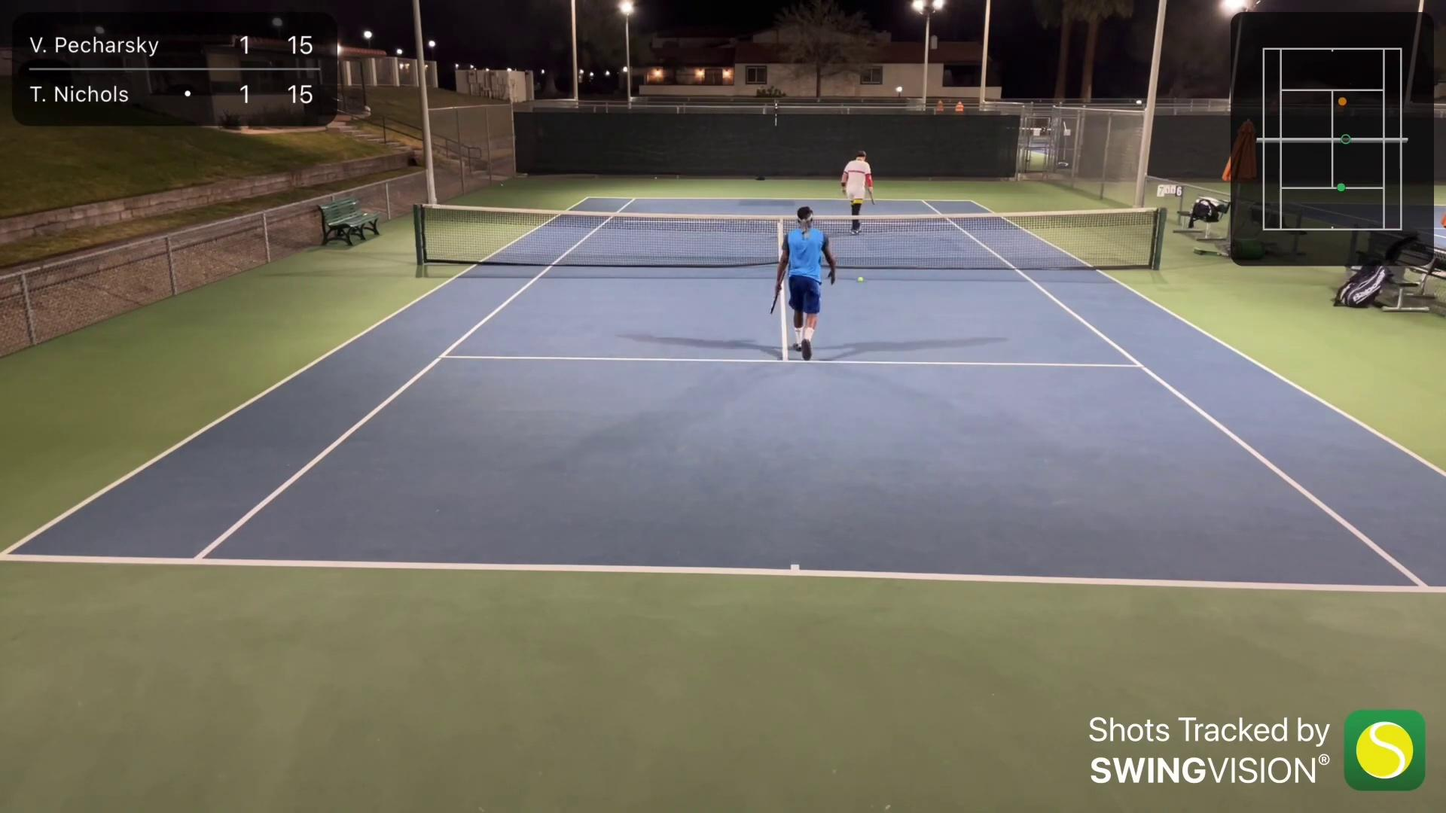ball: (857, 274, 864, 284)
